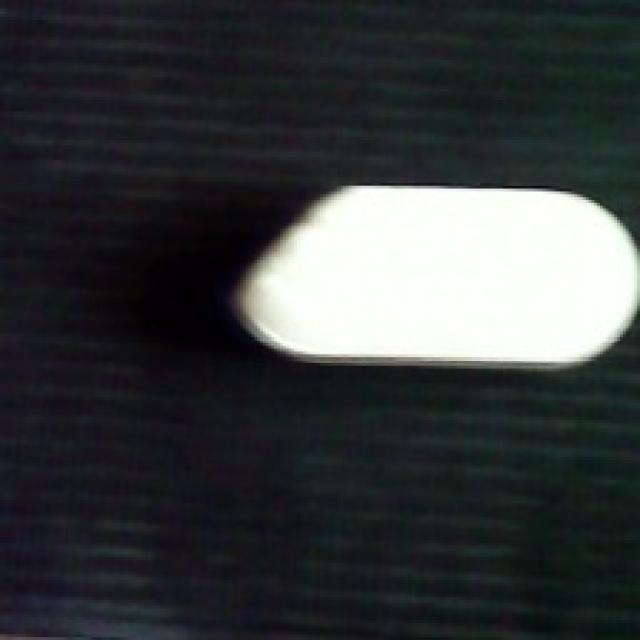defected: (232, 172, 634, 372)
